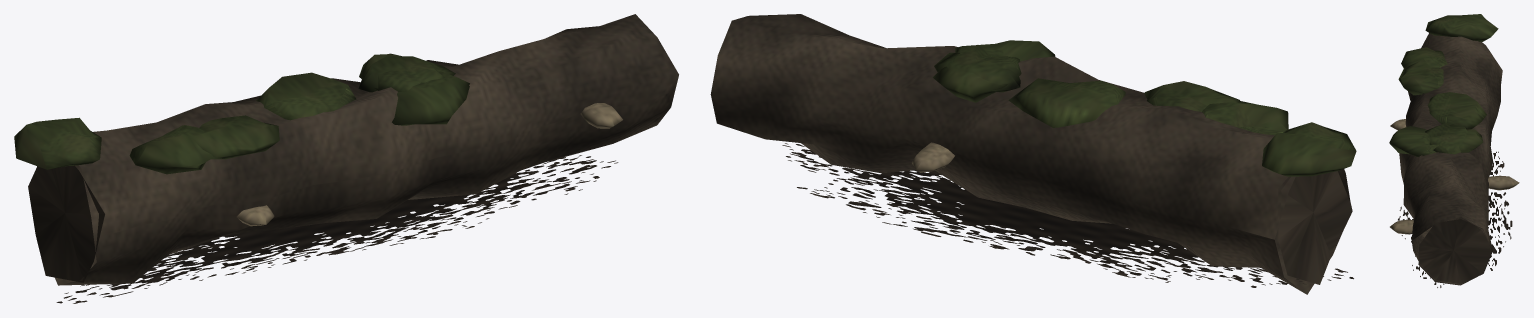
Rendered from log_mossy.glb.
3 renders of one model, left to right at view 1: azimuth 30°, elevation 25°; view 2: azimuth 150°, elevation 25°; view 3: azimuth 270°, elevation 25°, orthographic. The views are drawn at different scales.
Parts seen in each view (by area): view 1: log_mossy; view 2: log_mossy; view 3: log_mossy.
Part boxes in pixels (x1=…): log_mossy: x1=14, y1=14, x2=678, y2=303; log_mossy: x1=710, y1=14, x2=1356, y2=294; log_mossy: x1=1389, y1=14, x2=1519, y2=287.
Size of the model in its own units: 2.57 by 0.6121 by 0.7062.
Materials: 2 (2 with a texture image).
